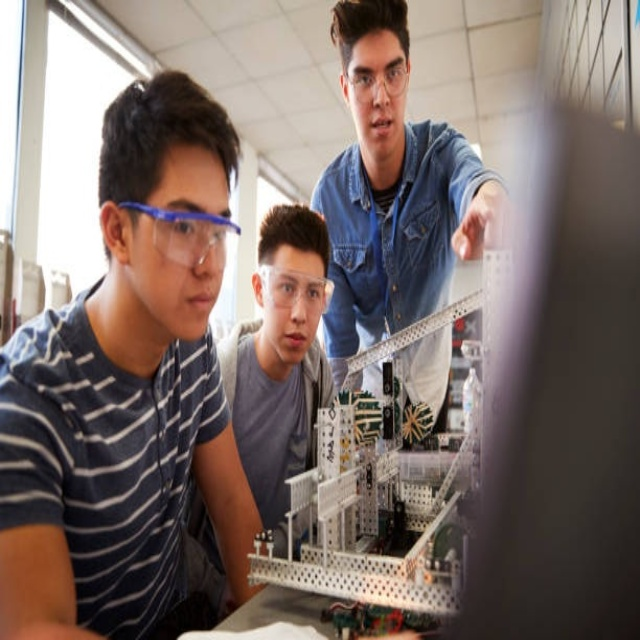Gafas: (116, 202, 241, 273), (259, 265, 334, 311), (346, 61, 410, 103)
Sin_guantes: (451, 182, 502, 260)
Sin_mascara: (177, 279, 218, 328), (276, 322, 306, 364), (366, 110, 396, 149)
